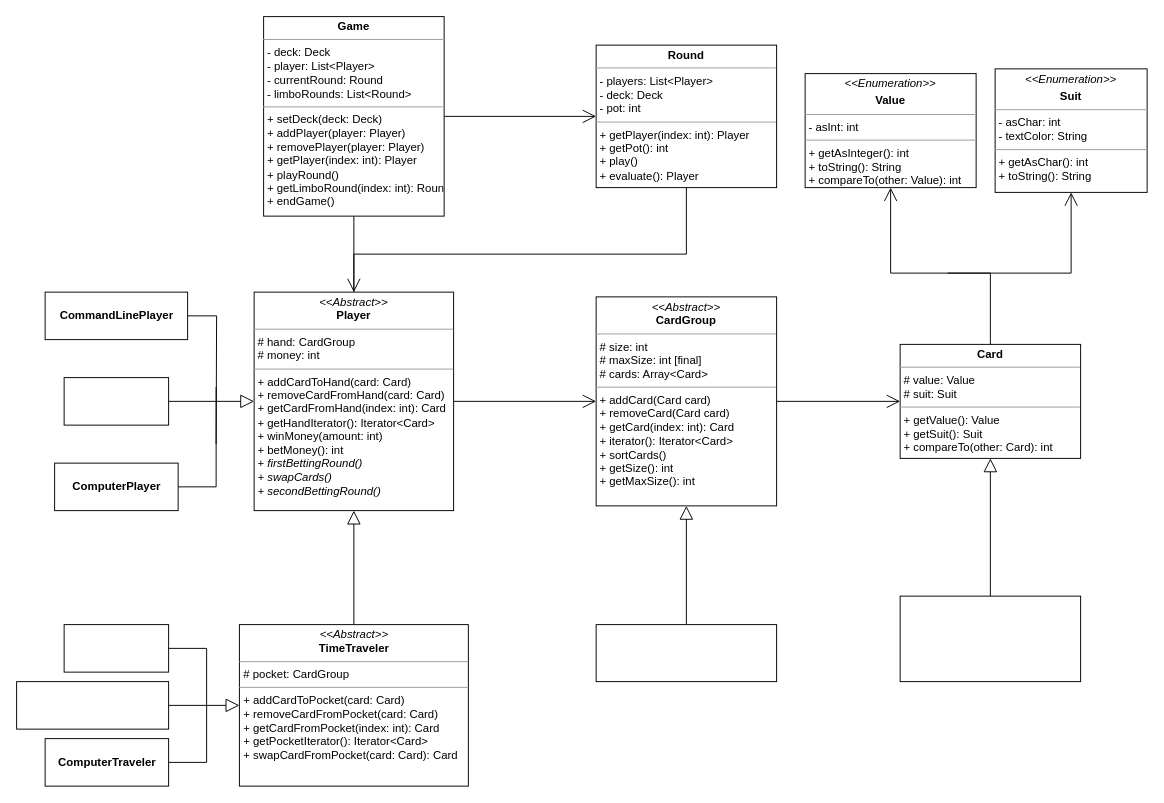
The diagram is 1164 pixels wide and 803 high, and some of its shapes have lost their labels. The box of each missing label's shape, as (x1, y1, x2, y2) in pixels:
CommandLineTraveler: (16, 681, 169, 729)
Deck + shuffle(): (595, 624, 777, 682)
EntangledCard - OriginalHand: CardGroup +: (899, 595, 1081, 682)
RandomPlayer: (63, 377, 169, 425)
RandomTraveler: (63, 624, 169, 672)
